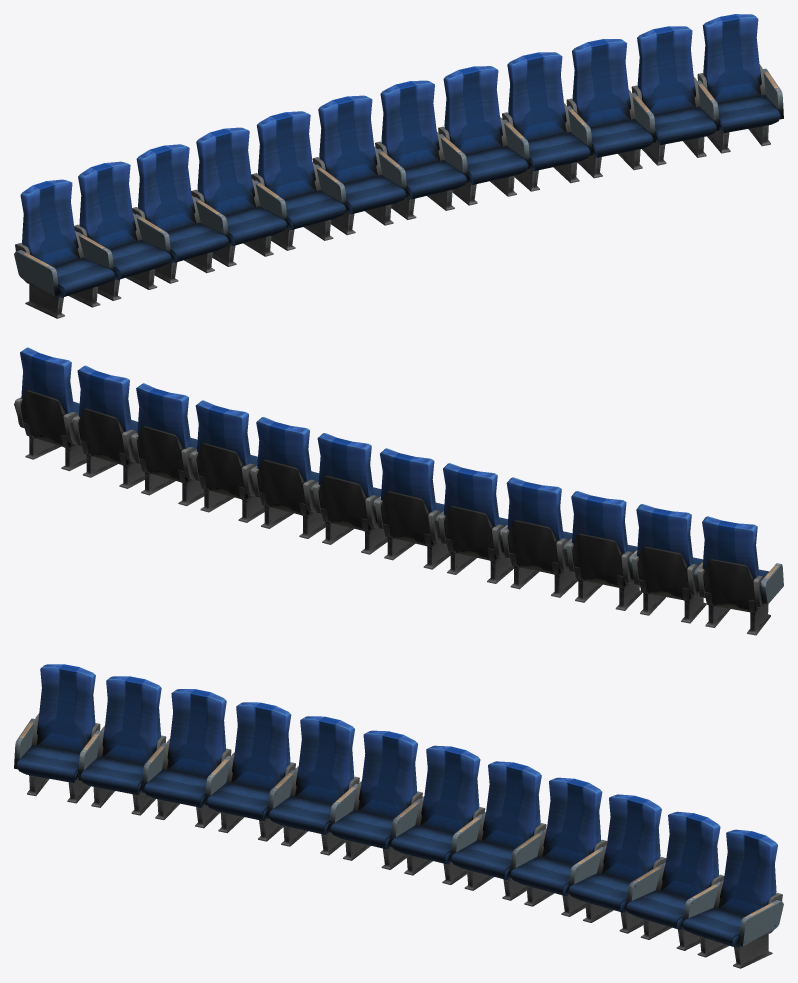
File: CinemaSeats01a.FBX
The picture shows the model from 3 angles, top to bottom: view 1: azimuth 30°, elevation 25°; view 2: azimuth 150°, elevation 25°; view 3: azimuth 330°, elevation 25°; orthographic projection.
Parts seen in each view (by area): view 1: CinemaSeats01a; view 2: CinemaSeats01a; view 3: CinemaSeats01a.
Boxes of the visible parts, x1,y1,x2,y2 form: CinemaSeats01a: (14, 14, 783, 318); CinemaSeats01a: (14, 347, 783, 635); CinemaSeats01a: (14, 664, 783, 968).
Bounding box in the file's own units: 1070 × 149 × 129.
